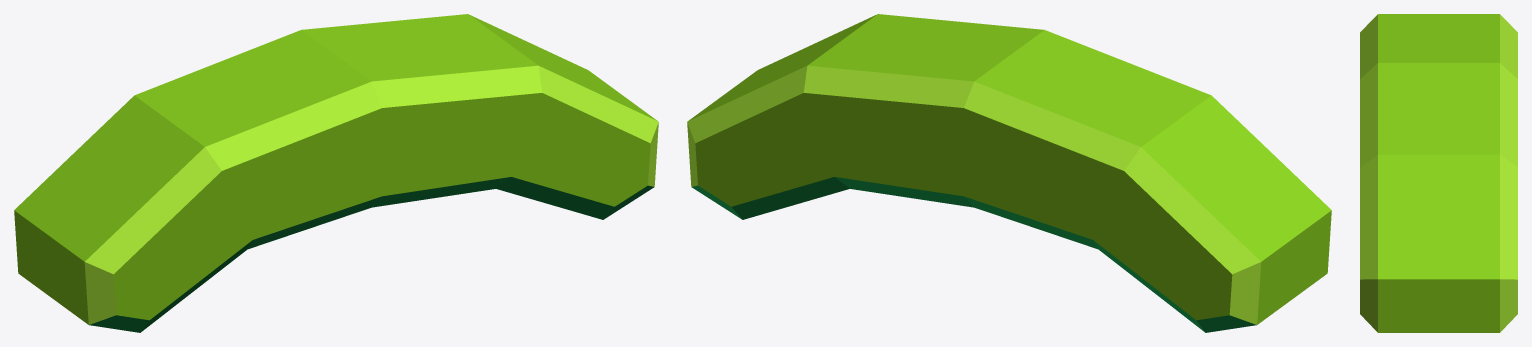
The model's file is 3d_HealthPoints_003.fbx.
3 views of the same model, side by side, from view 1: azimuth 30°, elevation 25°; view 2: azimuth 150°, elevation 25°; view 3: azimuth 270°, elevation 25° (orthographic). The views are drawn at different scales.
Parts seen in each view (by area): view 1: GEO_HealthPoints.003; view 2: GEO_HealthPoints.003; view 3: GEO_HealthPoints.003.
Part boxes in pixels (box(x1,y1,x2,y2)): GEO_HealthPoints.003: box(14, 14, 658, 332); GEO_HealthPoints.003: box(687, 14, 1331, 332); GEO_HealthPoints.003: box(1360, 14, 1517, 332).
Bounding box in the file's own units: 0.6393 × 0.176 × 0.2075.
